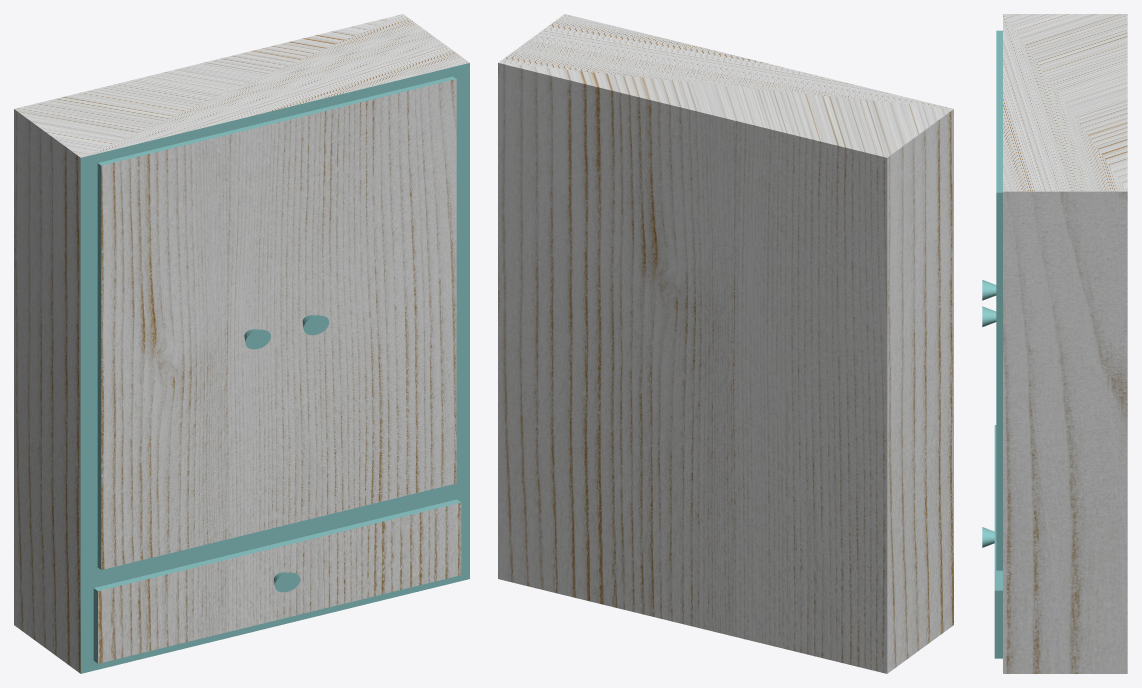
Rendered from Obj_vid_21_armari_low_poly.fbx.
3 views of the same model, side by side, from view 1: azimuth 30°, elevation 25°; view 2: azimuth 150°, elevation 25°; view 3: azimuth 270°, elevation 25° (orthographic). The views are drawn at different scales.
Parts seen in each view (by area): view 1: Obj_vid_21_armari_low_poly; view 2: Obj_vid_21_armari_low_poly; view 3: Obj_vid_21_armari_low_poly.
Part boxes in pixels (x1=…): Obj_vid_21_armari_low_poly: x1=14, y1=14, x2=469, y2=673; Obj_vid_21_armari_low_poly: x1=498, y1=14, x2=953, y2=673; Obj_vid_21_armari_low_poly: x1=982, y1=14, x2=1127, y2=673.
Bounding box in the file's own units: 1.23 × 1.55 × 0.4243.
